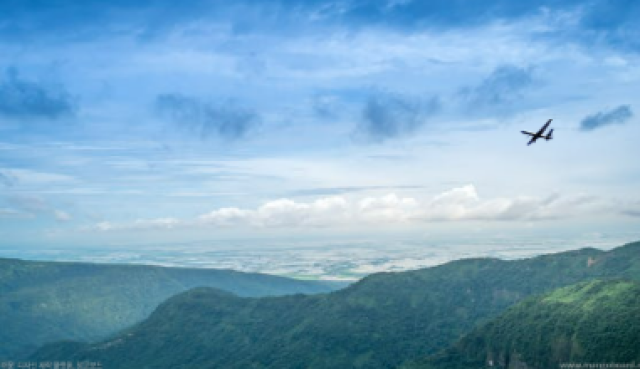military drone: (519, 118, 554, 146)
